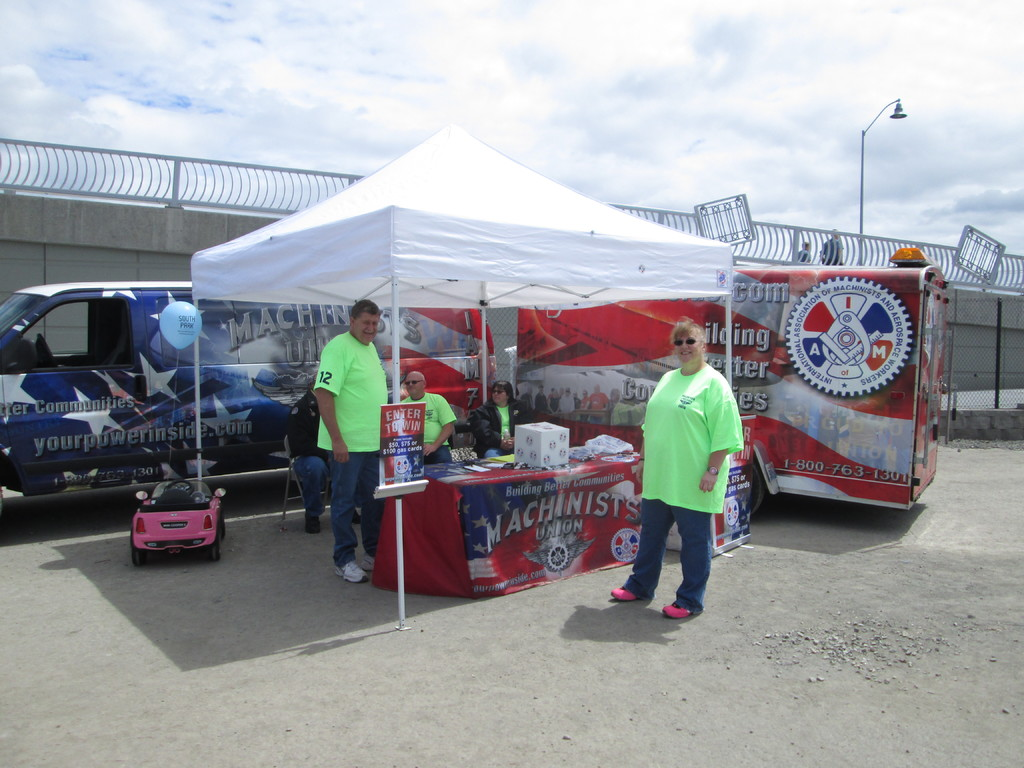Car: (131, 479, 227, 566)
